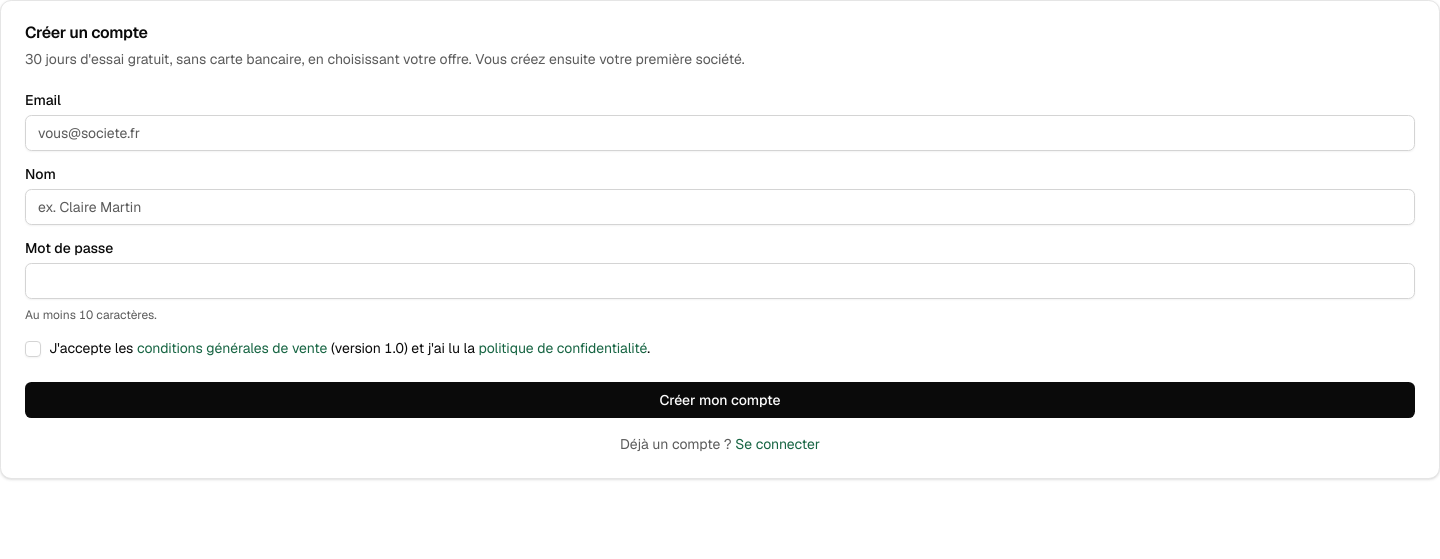
Test: sign-up form › shows the French error of the server
The image size is (1440, 559).
In the field labelled "Email": {"x": 720, "y": 133} [25,115,1415,151], type "claire@societe.fr"
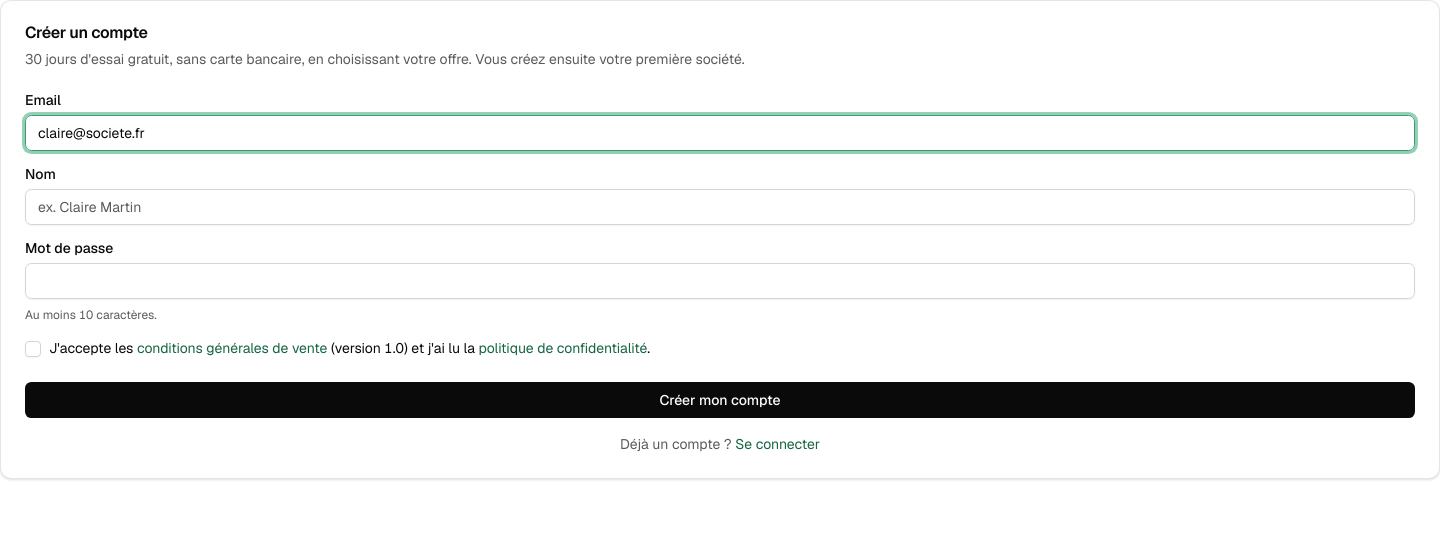
In the password field labelled "Mot de passe": {"x": 720, "y": 281} [25,263,1415,299], type "un-mot-de-passe-solide"
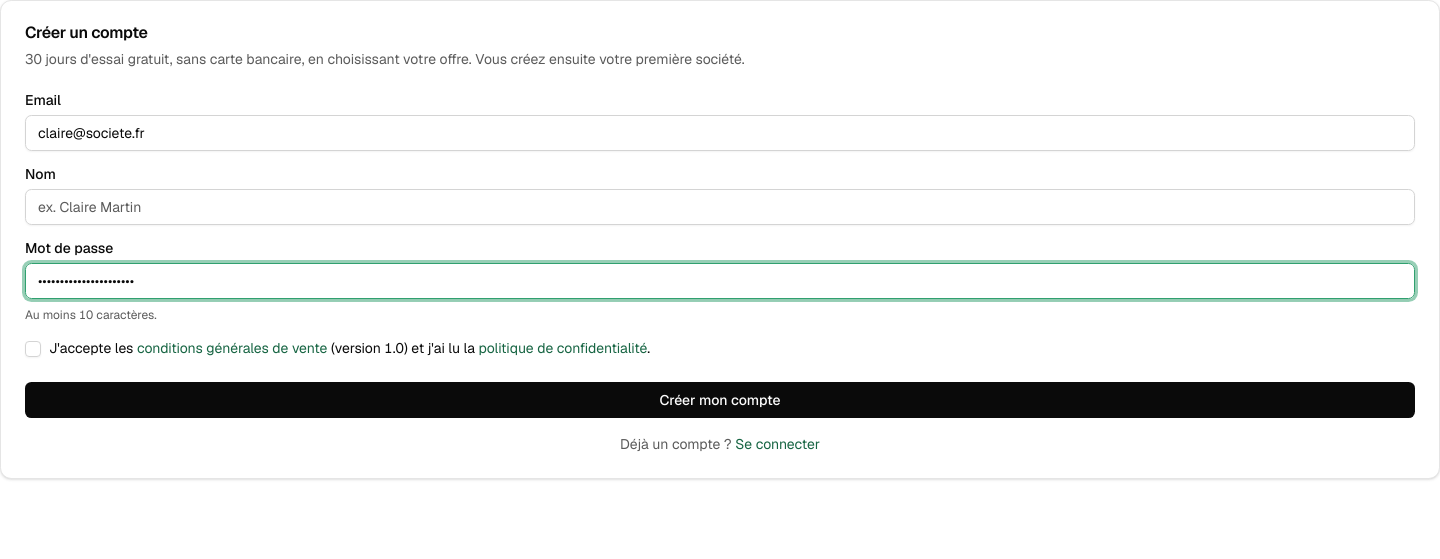
Click the checkbox: {"x": 33, "y": 349} [25,341,41,357]
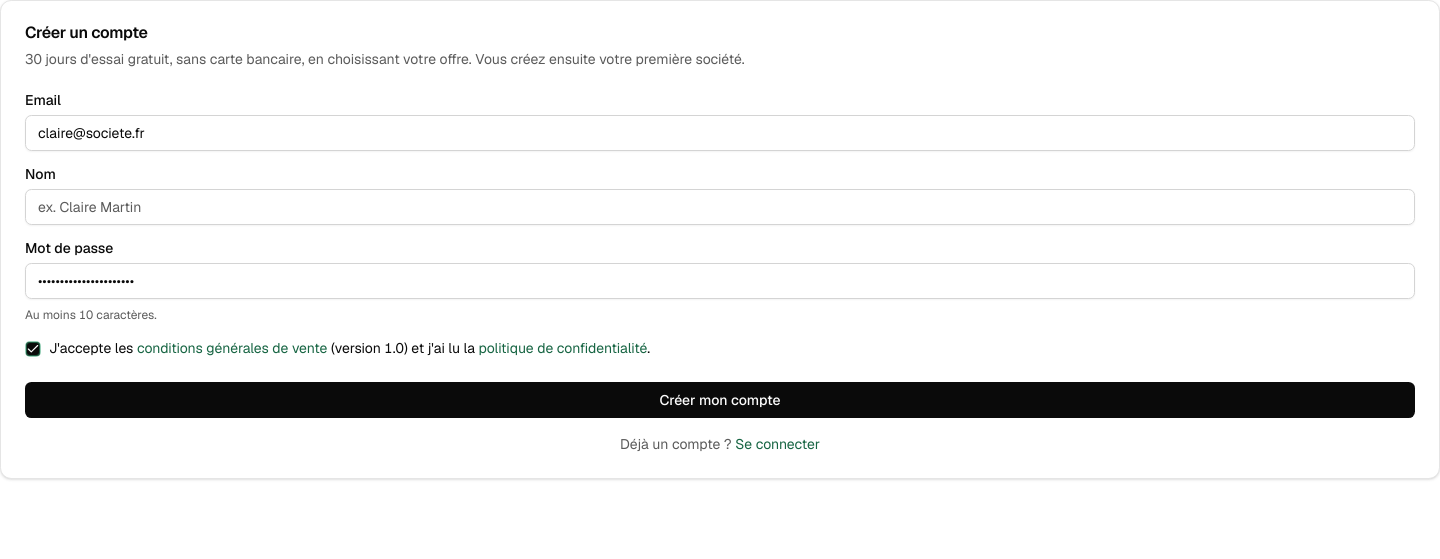
Click the button "Créer mon compte": {"x": 720, "y": 400} [25,382,1415,418]
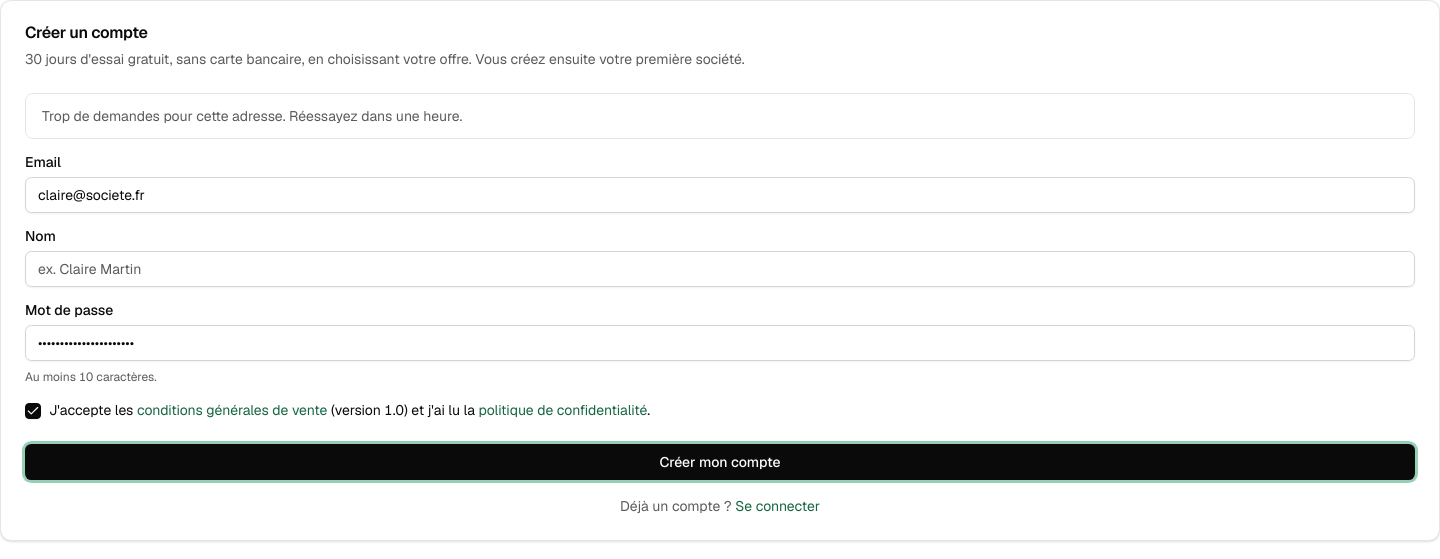
Expected: the text "Trop de demandes pour cette adresse. Réessayez dans une heure." is shown, [42,107,462,125]
